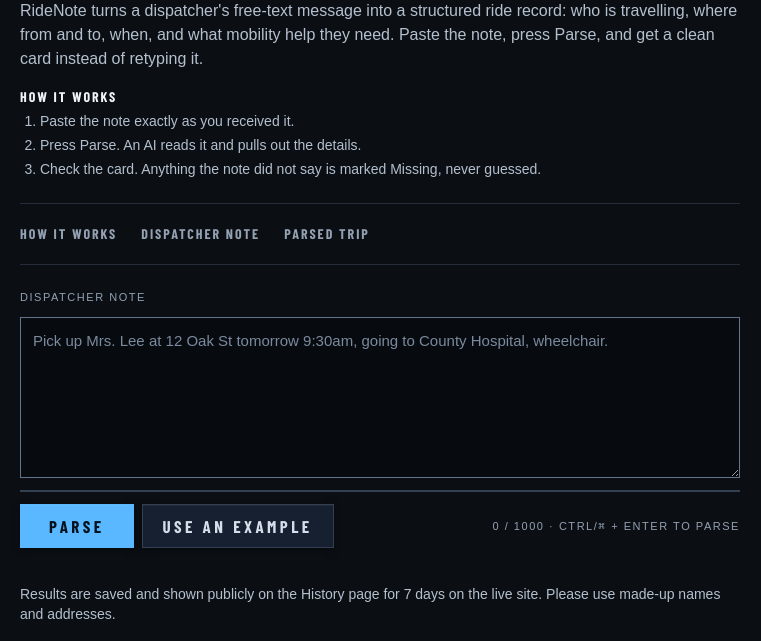
Test: Home page › shows a generic alert when the response is not JSON
Type "Pick up Lee" into the text box labelled "Dispatcher note" at (380, 398), box [20,317,740,478]
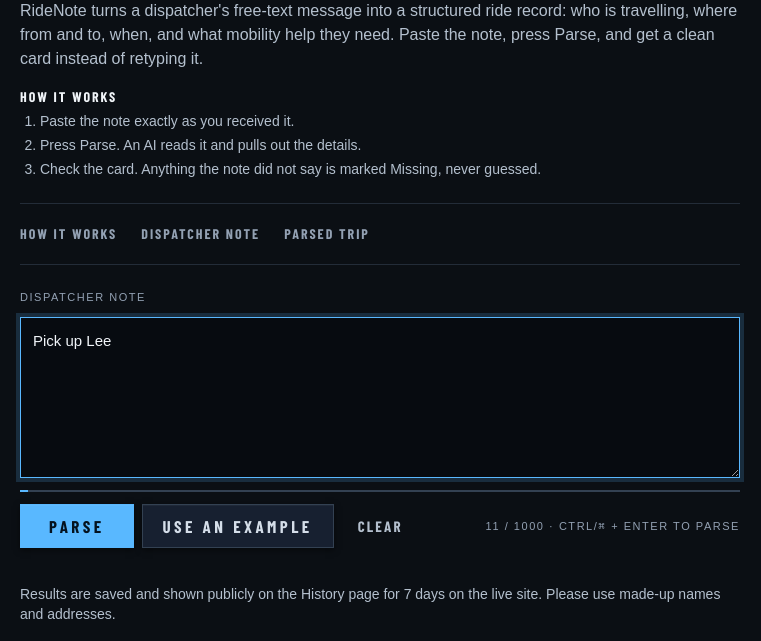
Click the button "Parse" at (77, 526), box [20,504,134,548]
(page scrolled)
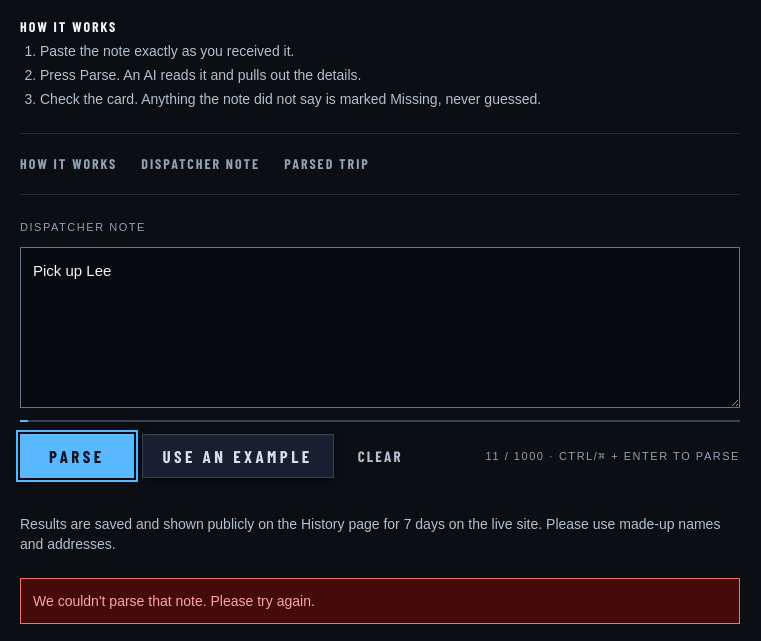
Expected: the message does not show "Bad gateway", [20,578,740,624]
Expected: the message reads "We couldn't parse that note. Please try again.", [33,593,315,609]
